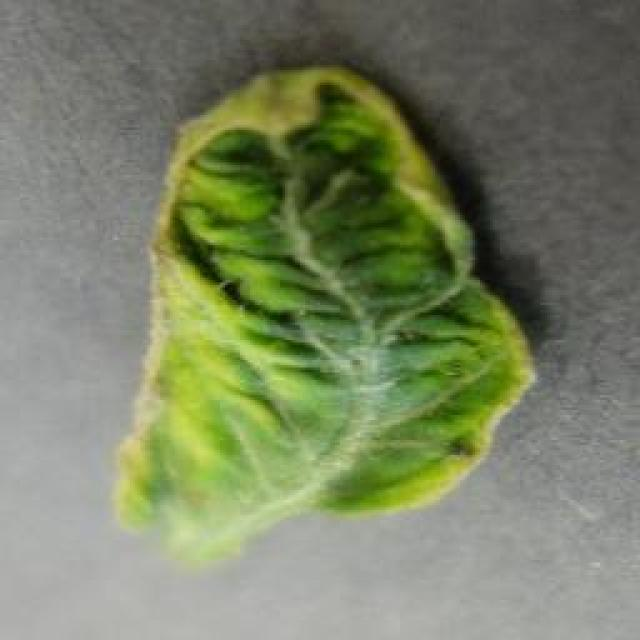Tom_Yellow_Leaf_Curl_Virus: (118, 98, 532, 532)
